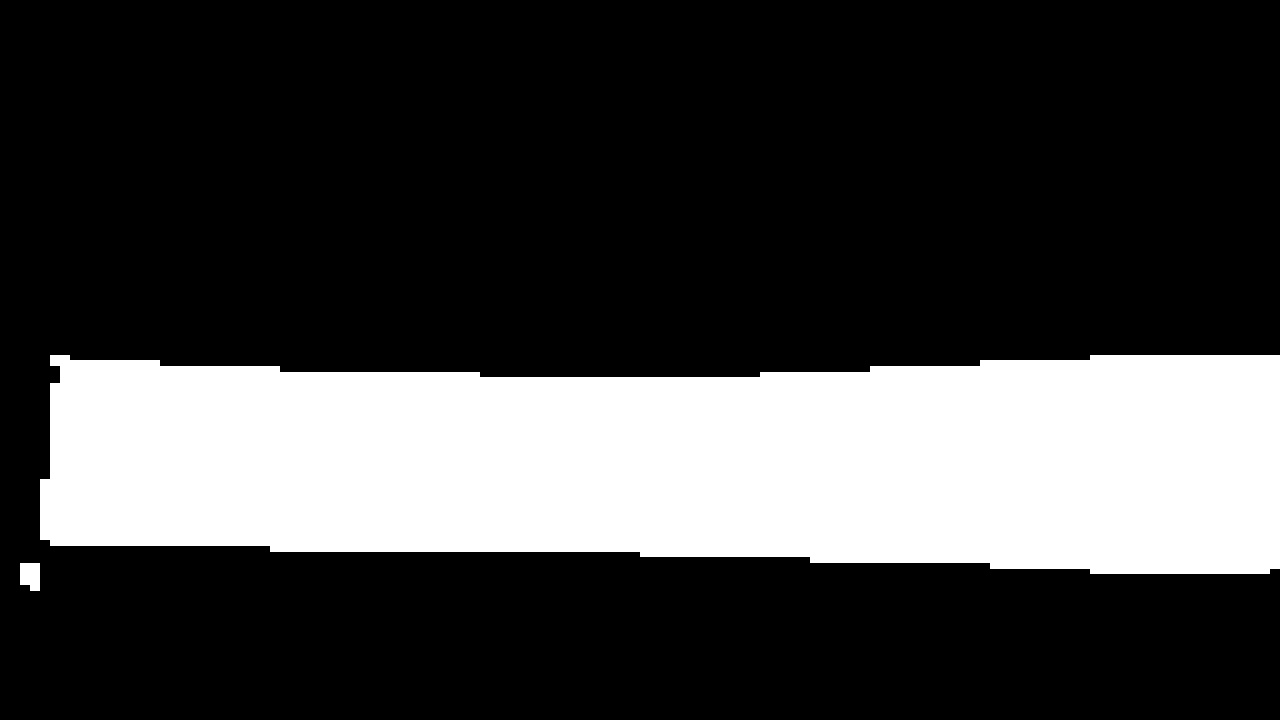Turbine: (33, 330, 1271, 584)
